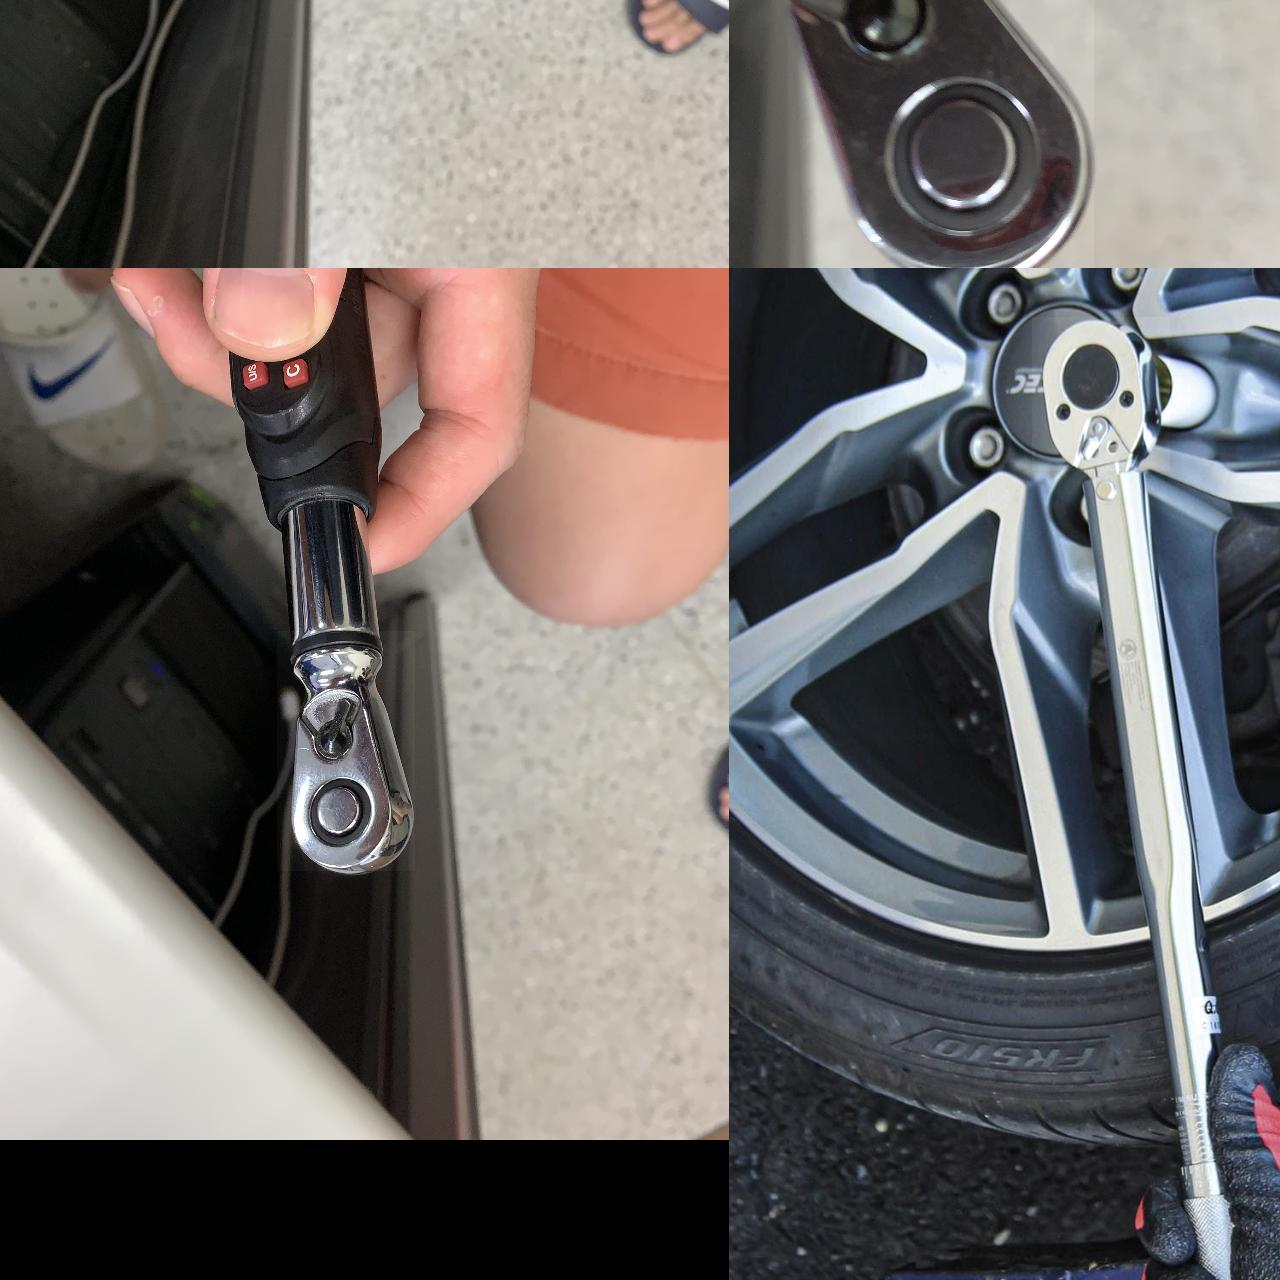Tool: (729, 0, 1094, 268), (277, 629, 415, 870), (1032, 316, 1170, 470)
